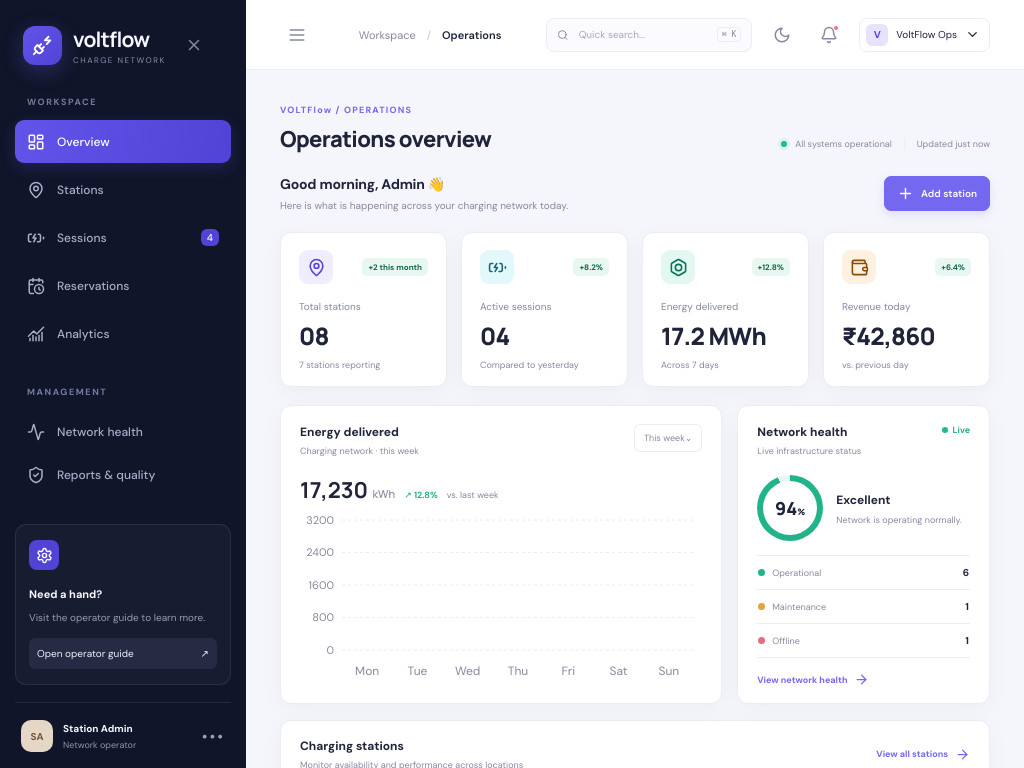
Test case: VoltFlow application › can open and close notifications
The image size is (1024, 768).
Click the button named "open notifications": (829, 34) x1=812 y1=18 x2=846 y2=52
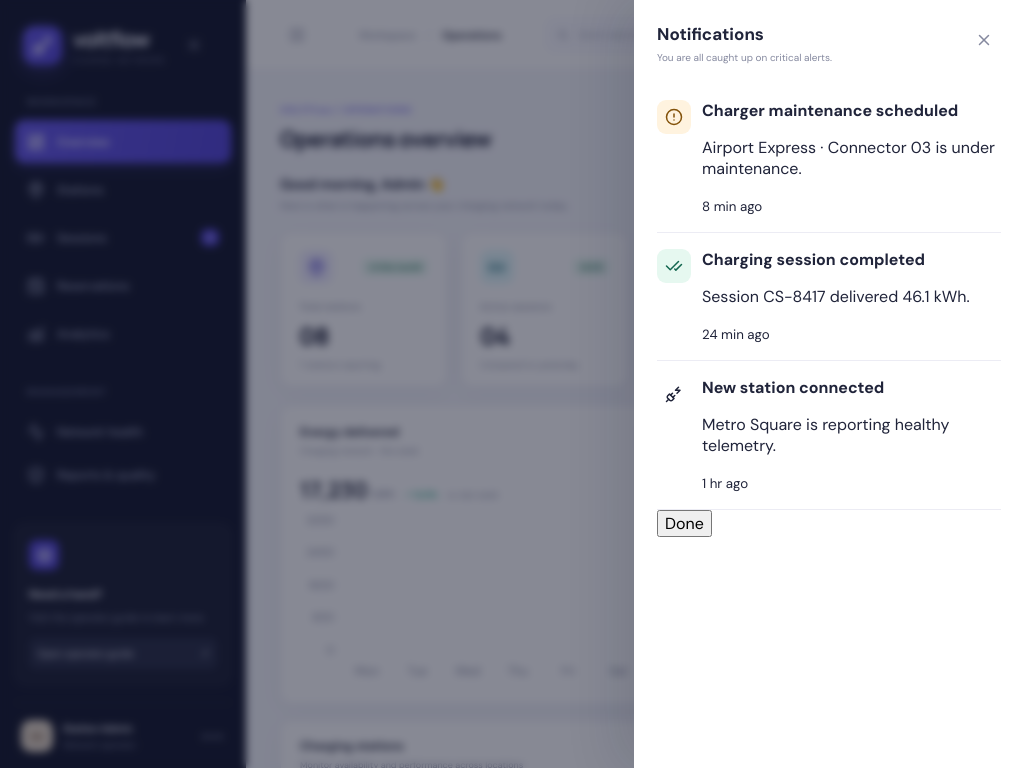
Expected: the element "Notifications" is shown, x1=634 y1=0 x2=1023 y2=767
Click the button named "close notifications": (984, 40) x1=967 y1=23 x2=1001 y2=57
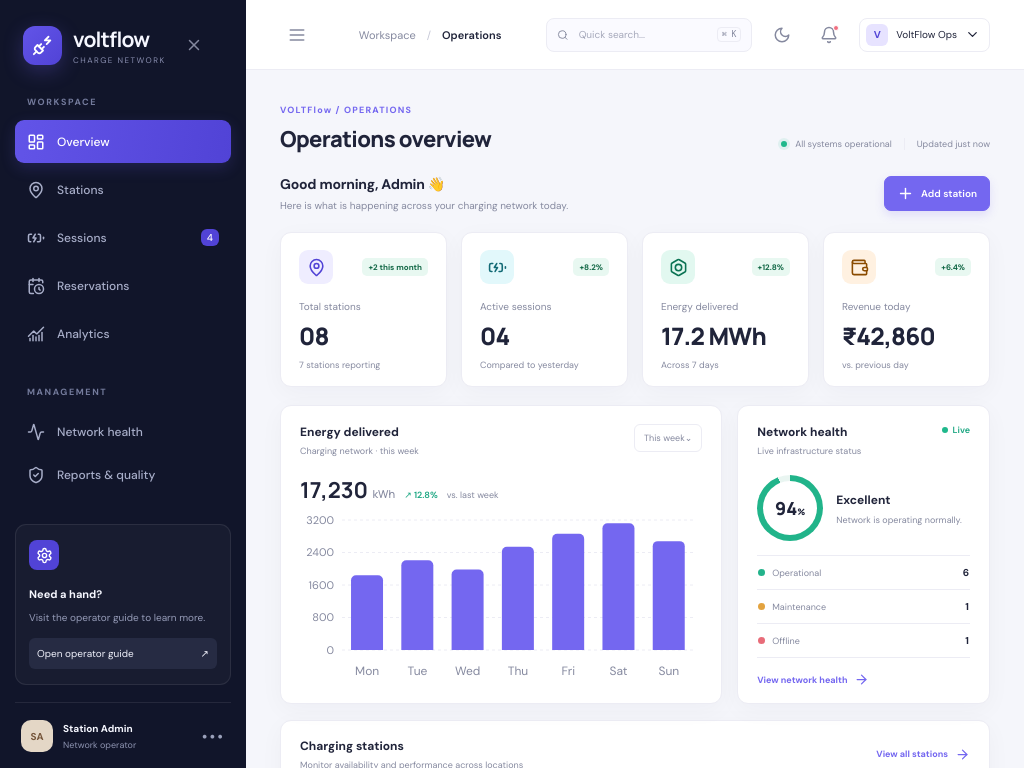
Expected: the heading "Notifications" is gone
